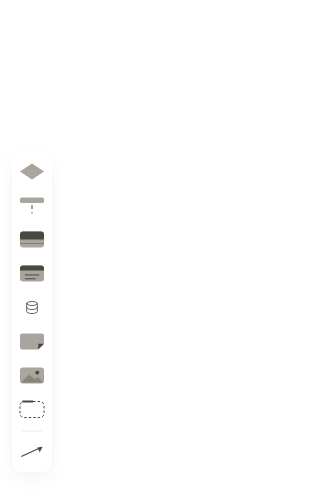
Test: ShapePalette › labels shapes by role, with the geometry only as a subtitle
Click the 1st button named "Flowchart" at (32, 172), box [16,156,48,188]
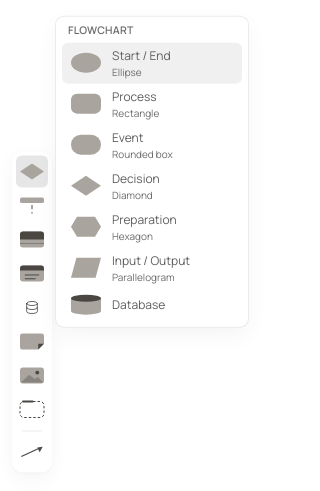
Now the menu "Flowchart" shows "Decision", box [62,165,242,206]
Now the menu "Flowchart" shows "Input / Output", box [62,247,242,288]
Now the menu "Flowchart" shows "Start / End", box [62,42,242,83]
